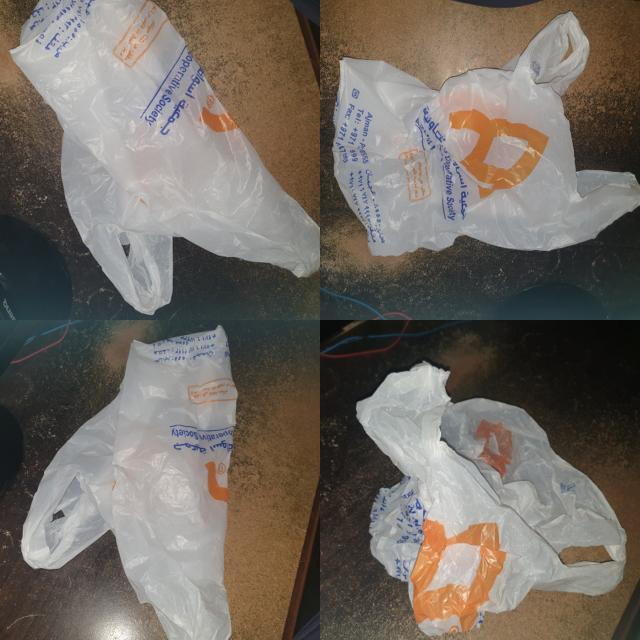Single-layer Plastic: (11, 0, 319, 314), (332, 11, 640, 256), (356, 362, 626, 635), (21, 326, 238, 640)
